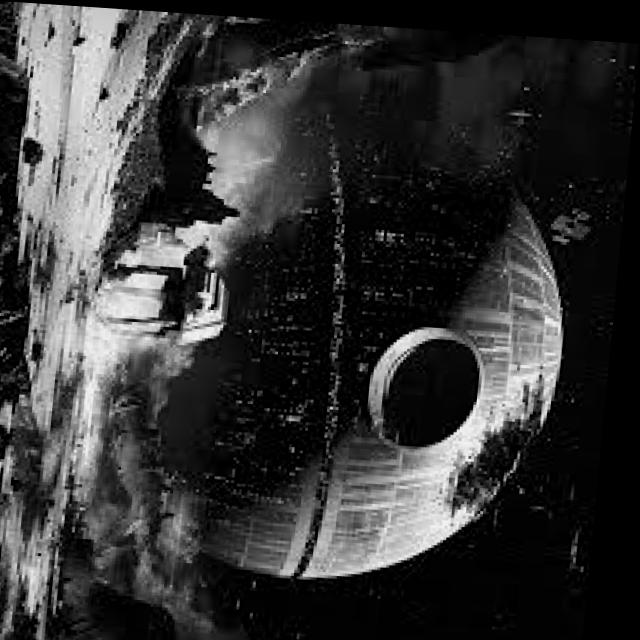deathStar: (141, 77, 592, 590)
